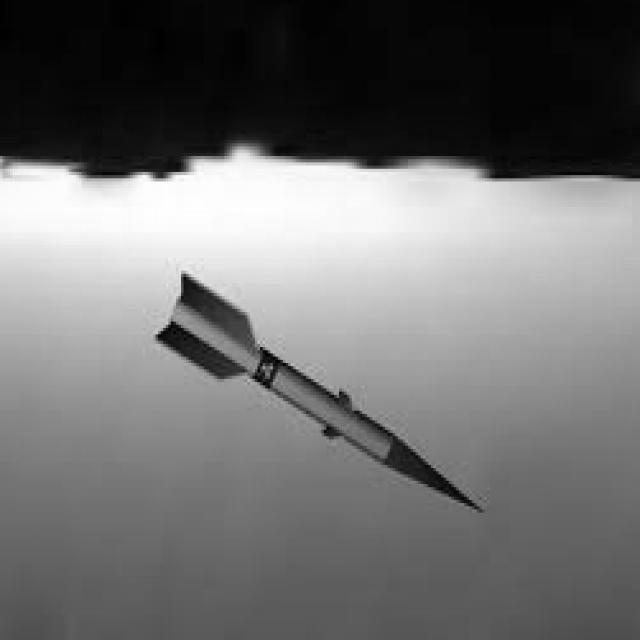missile: (169, 240, 490, 530)
